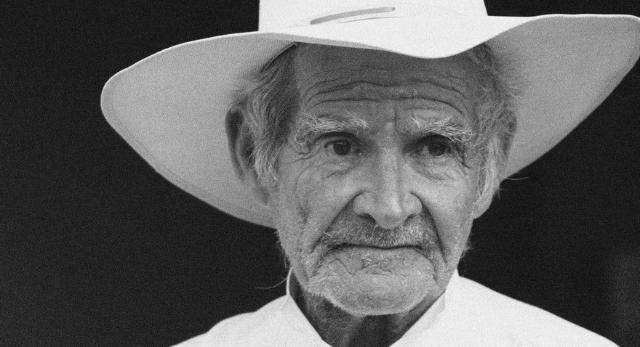chin: (333, 258, 372, 274), (423, 249, 441, 281)
crows_feet: (290, 142, 316, 168), (452, 141, 468, 173)
forehead: (307, 79, 348, 113), (415, 71, 457, 97), (410, 89, 452, 111), (354, 76, 382, 108)
frown_line: (390, 106, 404, 136)
gummy_smile: (324, 194, 356, 232), (420, 201, 444, 237)
